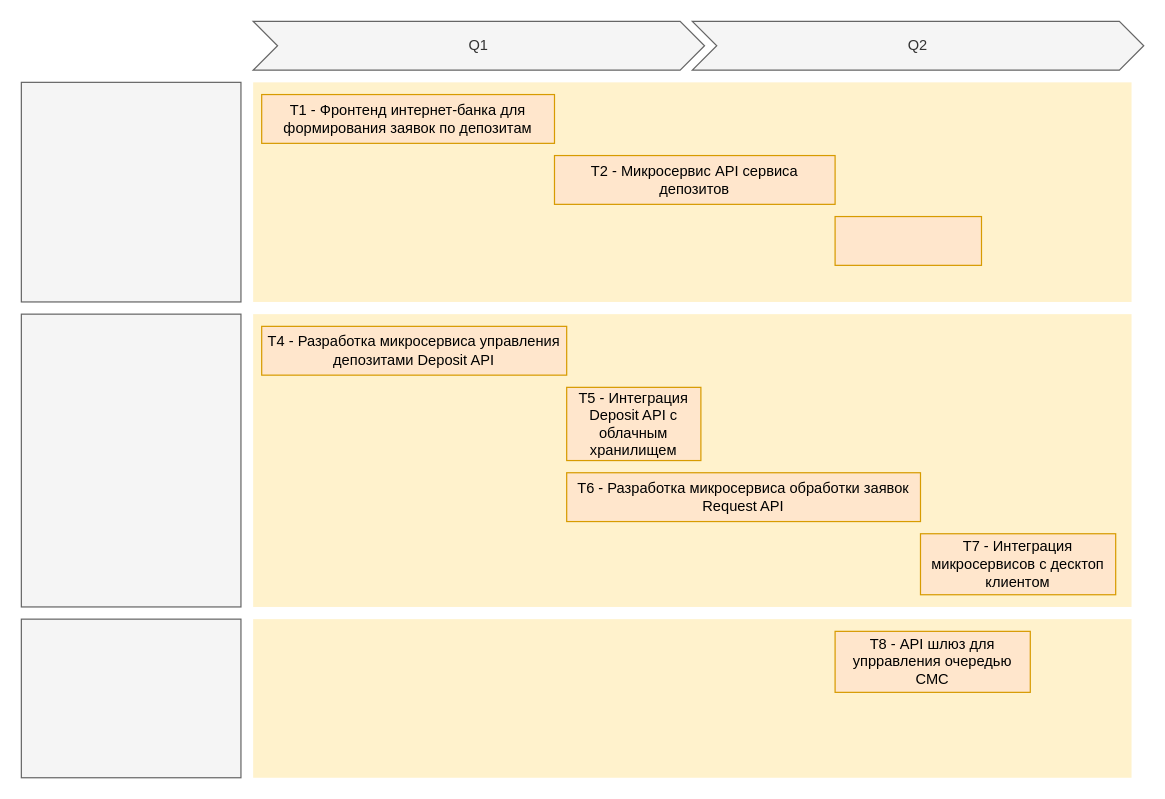
Some shapes in this 1165 by 799 pixel diagram are drawn without their labels. The box of each missing label's shape, as (x1, y1, x2, y2) in pixels:
АБС: (20, 313, 241, 607)
Интернет-банк: (20, 81, 241, 302)
СМС шлюз: (20, 618, 241, 778)
Т3 - Интеграция с СМС шлюзом: (834, 215, 981, 265)
